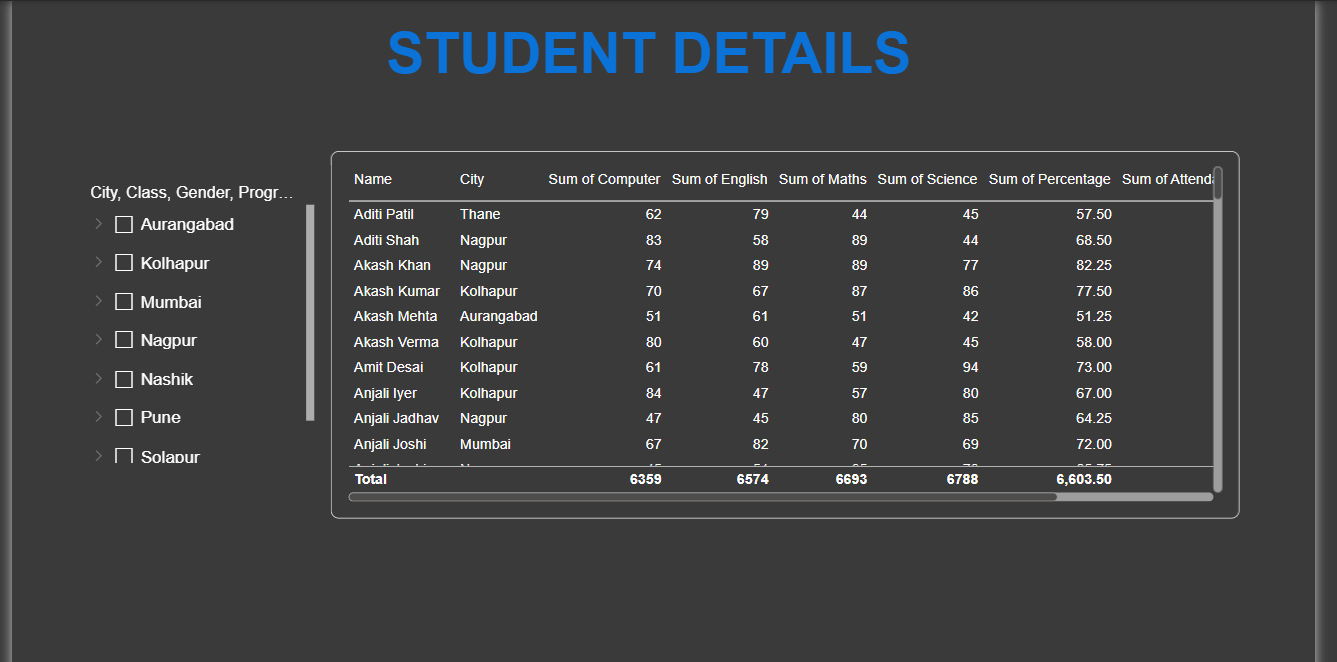

The dashboard page shown, as its layout file describes it:
{"tool":"powerbi","page":{"name":"Page 4","canvas":[1280,720],"ordinal":3},"visuals":[{"type":"textbox","box":[136.7,20,977.8,84.4],"z":0},{"type":"slicer","fields":{"Values":["Students.City","Students.Class","Students.Gender","Students.Progress"]},"box":[68.9,178.9,227.8,274.4],"z":1000},{"type":"tableEx","fields":{"Values":["Students.Name","Students.City","Sum(Students.Computer)","Sum(Students.English)","Sum(Students.Maths)","Sum(Students.Science)","Sum(Students.Percentage)","Sum(Students.Attendance%)","Students.Progress"]},"box":[313.3,146.7,892.2,361.1],"z":2000}]}

Visuals, with their boxes on the page's 1280x720 design canvas (x1, y1, x2, y2). These are canvas units, not pixel positions in the 1337x662 screenshot, which may show the page scaled, cropped or inside an application window:
textbox: 137,20,1114,104
slicer - Students.City x Students.Class: 69,179,297,453
tableEx - Students.Name x Students.City: 313,147,1206,508
